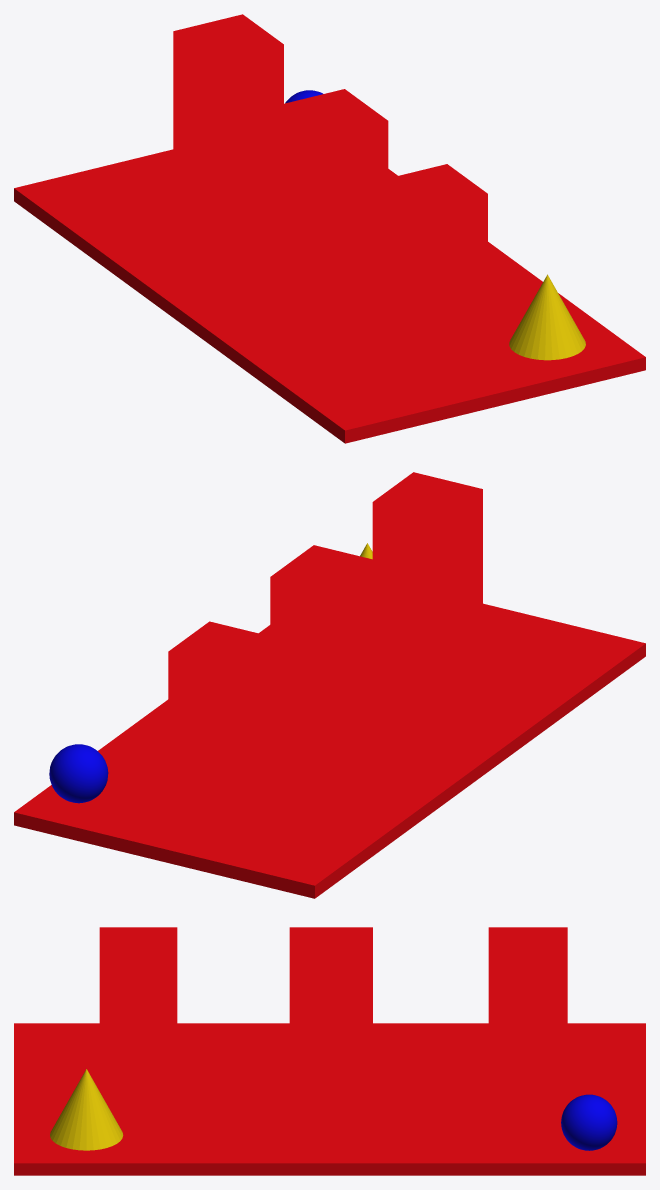
The model's file is model1-stats-animated-colored.glb.
3 views of the same model, one above another, from view 1: azimuth 30°, elevation 25°; view 2: azimuth 150°, elevation 25°; view 3: azimuth 270°, elevation 25° (orthographic). The views are drawn at different scales.
Parts seen in each view (by area): view 1: Cube.001, Cone; view 2: Cube.001, Sphere; view 3: Cube.001, Cone, Sphere.
Boxes of the visible parts, x1=… form: Cube.001: x1=14, y1=14, x2=645, y2=443; Cone: x1=509, y1=274, x2=585, y2=360; Cube.001: x1=14, y1=472, x2=645, y2=898; Sphere: x1=49, y1=744, x2=108, y2=803; Cube.001: x1=14, y1=927, x2=645, y2=1175; Cone: x1=50, y1=1069, x2=123, y2=1150; Sphere: x1=561, y1=1094, x2=617, y2=1150.
Size of the model in its own units: 4.59 by 2.5 by 8.75.
